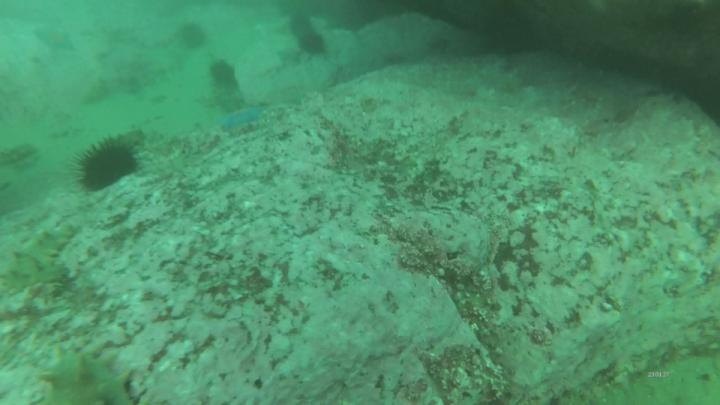echinus: (81, 147, 140, 192), (184, 24, 205, 48), (210, 62, 235, 82), (298, 36, 324, 55), (291, 14, 313, 35)
holothurian: (2, 224, 80, 297), (48, 353, 134, 405)
starfish: (217, 105, 263, 128)
